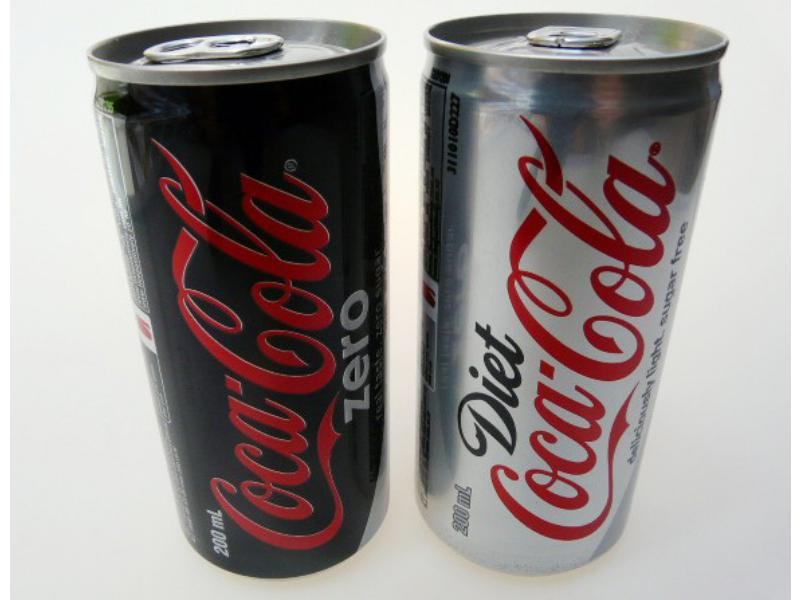can: (409, 5, 736, 582), (82, 8, 397, 586)
